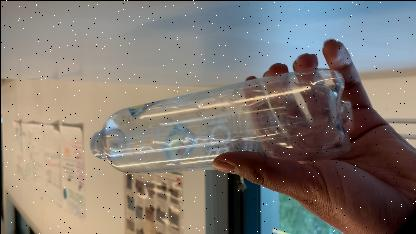Plastic Bottle: (87, 66, 355, 176)
